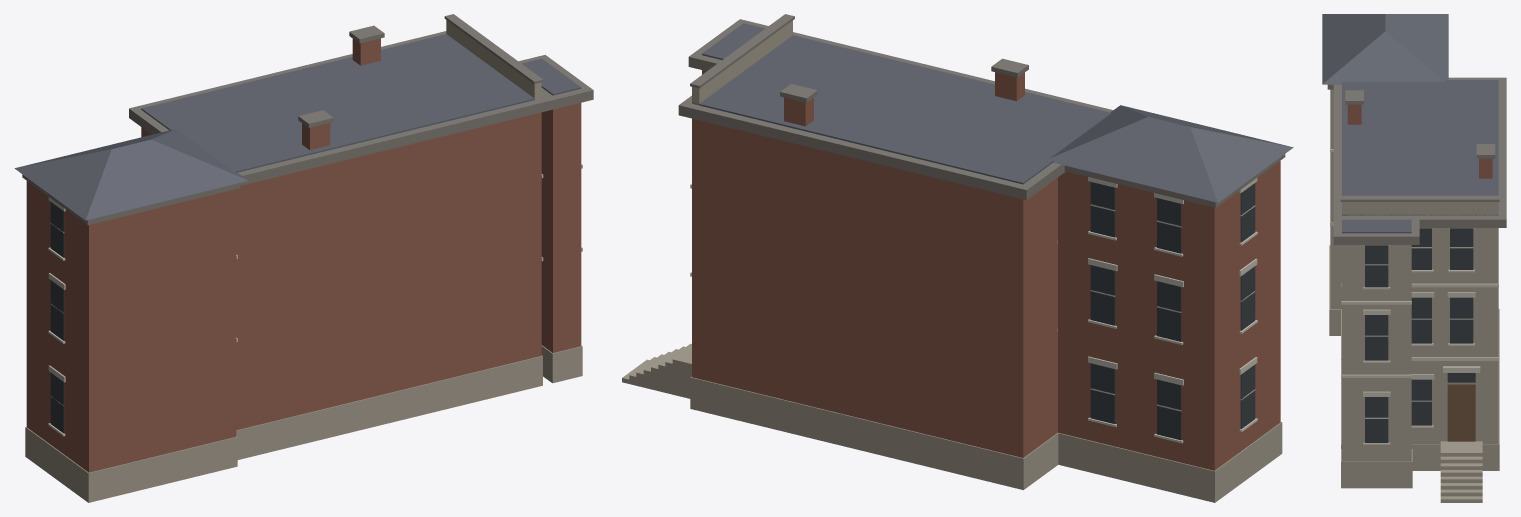
Rendered from house_1634_prairie__draft_1904.glb.
The picture shows the model from 3 angles, left to right: view 1: azimuth 30°, elevation 25°; view 2: azimuth 150°, elevation 25°; view 3: azimuth 270°, elevation 25°; orthographic projection. The views are drawn at different scales.
Parts seen in each view (by area): view 1: house_1634_prairie__draft_1904; view 2: house_1634_prairie__draft_1904; view 3: house_1634_prairie__draft_1904.
Boxes of the visible parts, x1,y1,x2,y2 form: house_1634_prairie__draft_1904: (14, 14, 593, 502); house_1634_prairie__draft_1904: (622, 14, 1293, 502); house_1634_prairie__draft_1904: (1322, 14, 1506, 502).
Bounding box in the file's own units: 23.9 × 13.37 × 7.95.
